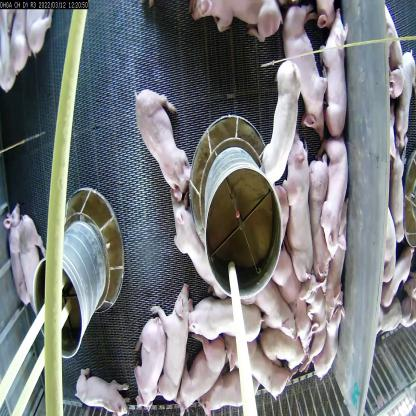Pig: (130, 72, 190, 203), (167, 195, 228, 303), (256, 56, 301, 184), (316, 0, 351, 144), (280, 137, 316, 274), (189, 0, 282, 51), (308, 294, 352, 401), (154, 284, 189, 411), (285, 4, 320, 130), (322, 134, 351, 282), (136, 306, 172, 414), (21, 213, 53, 327), (175, 330, 218, 412), (245, 328, 292, 403), (250, 281, 300, 348), (73, 360, 133, 415), (197, 296, 254, 351), (204, 368, 267, 415), (256, 324, 306, 383), (2, 206, 22, 294)
